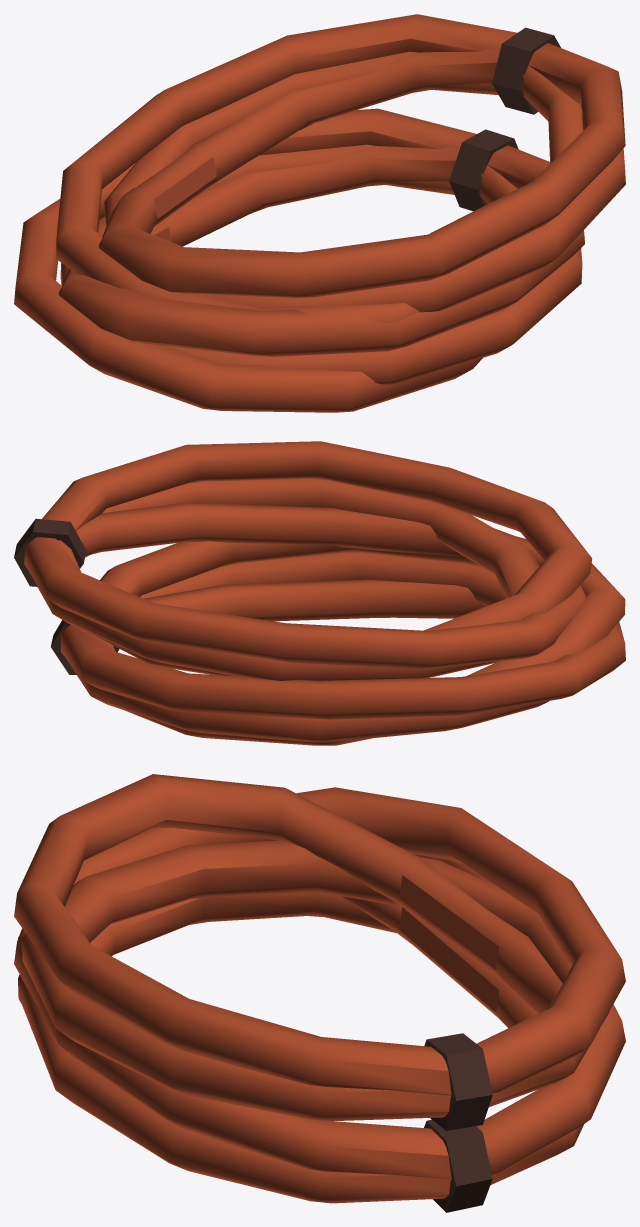
File: urp 6.fbx
The picture shows the model from 3 angles, top to bottom: view 1: azimuth 30°, elevation 25°; view 2: azimuth 150°, elevation 25°; view 3: azimuth 270°, elevation 25°; orthographic projection. The views are drawn at different scales.
Parts seen in each view (by area): view 1: urp 6; view 2: urp 6; view 3: urp 6.
Part boxes in pixels (box(x1,y1,x2,y2)): urp 6: box(14, 14, 625, 412); urp 6: box(14, 441, 625, 745); urp 6: box(14, 774, 625, 1212).
Bounding box in the file's own units: 95.35 × 27.19 × 72.69.
